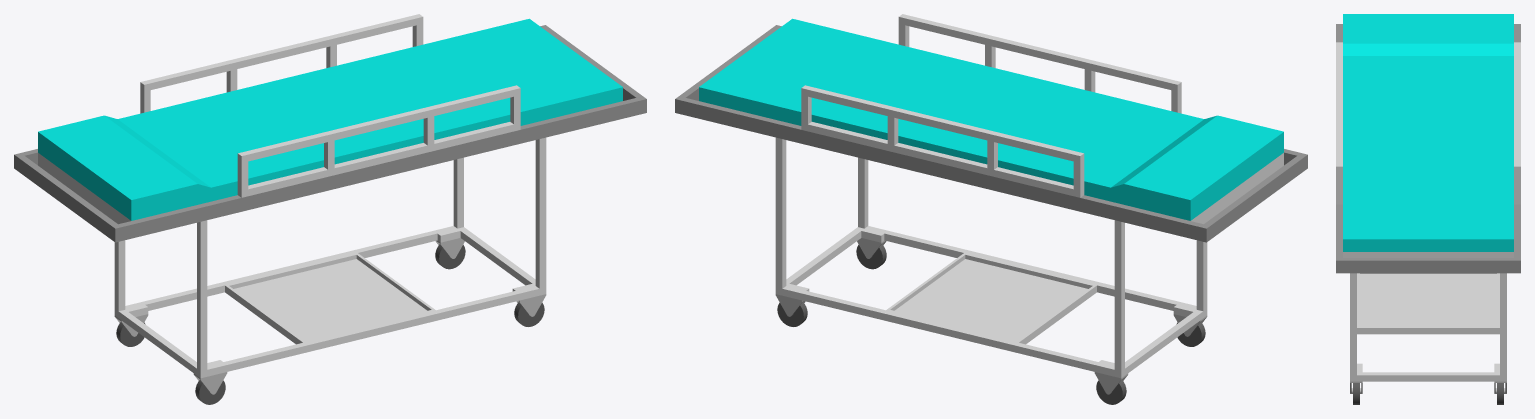
File: camilla.glb
The picture shows the model from 3 angles, left to right: view 1: azimuth 30°, elevation 25°; view 2: azimuth 150°, elevation 25°; view 3: azimuth 270°, elevation 25°; orthographic projection. The views are drawn at different scales.
Visible parts, largest first — view 1: Material2 (×8), Material3; view 2: Material2 (×9), Material3; view 3: Material3, Material2 (×7).
Part boxes in pixels (x1,y1,x2,y2): Material2 (×8): (14,14,646,378); Material3: (38,18,622,220); Material2 (×9): (675,14,1307,378); Material3: (699,18,1283,220); Material3: (1343,14,1513,251); Material2 (×7): (1336,24,1520,381).
Bounding box in the file's own units: 78.74 × 35.43 × 25.98.
